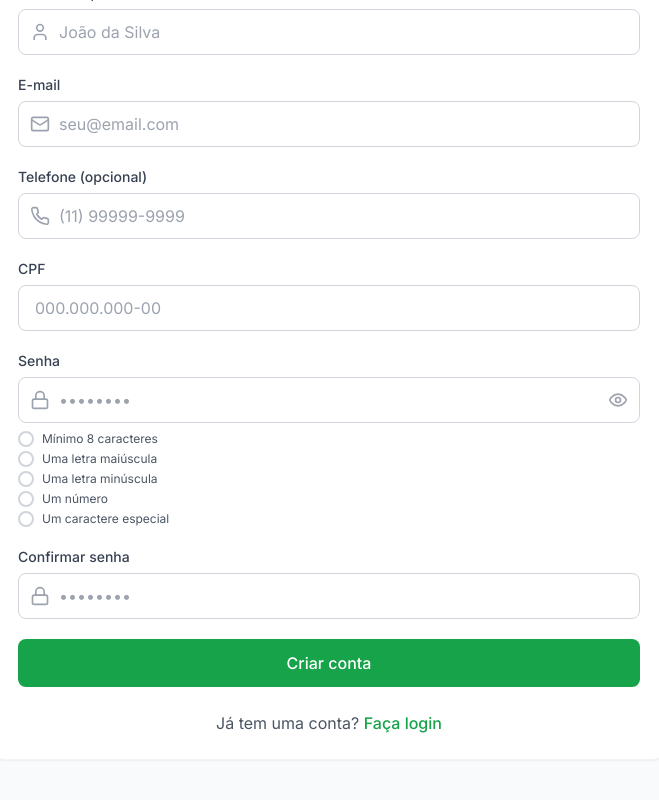
it: RegisterPage › shows validation errors for invalid collector data
(page scrolled)
Step 1. Click the button "Criar conta" → (329, 663), box [18,639,640,687]
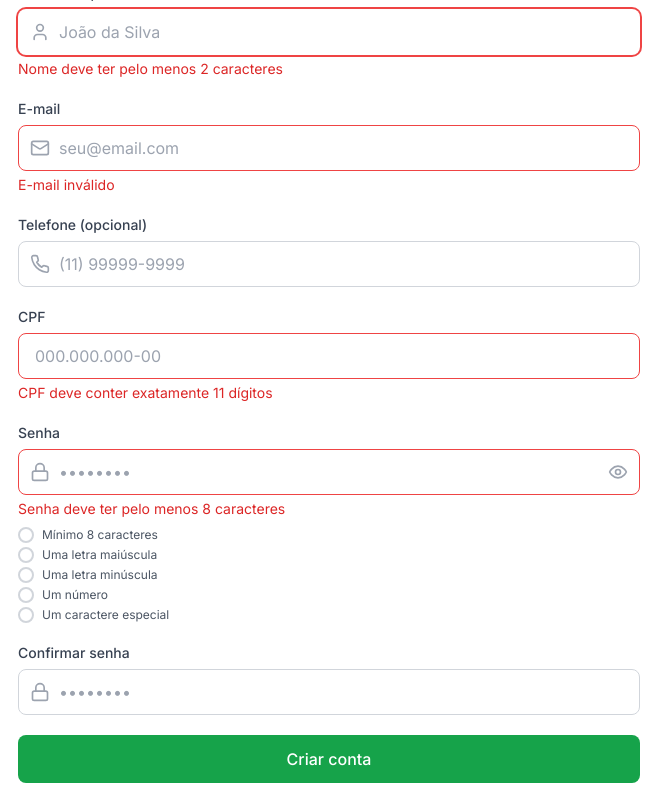
Now the text "Nome deve ter pelo menos 2 caracteres" is shown, box [18,60,283,77]
Now the text "E-mail inválido" is shown, box [18,176,115,193]
Now the text "CPF deve conter exatamente 11 dígitos" is shown, box [18,384,273,401]
